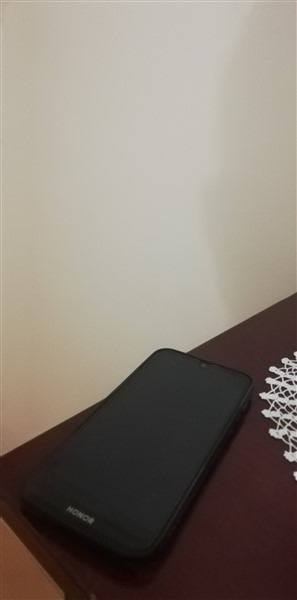telefon: (21, 344, 256, 573)
